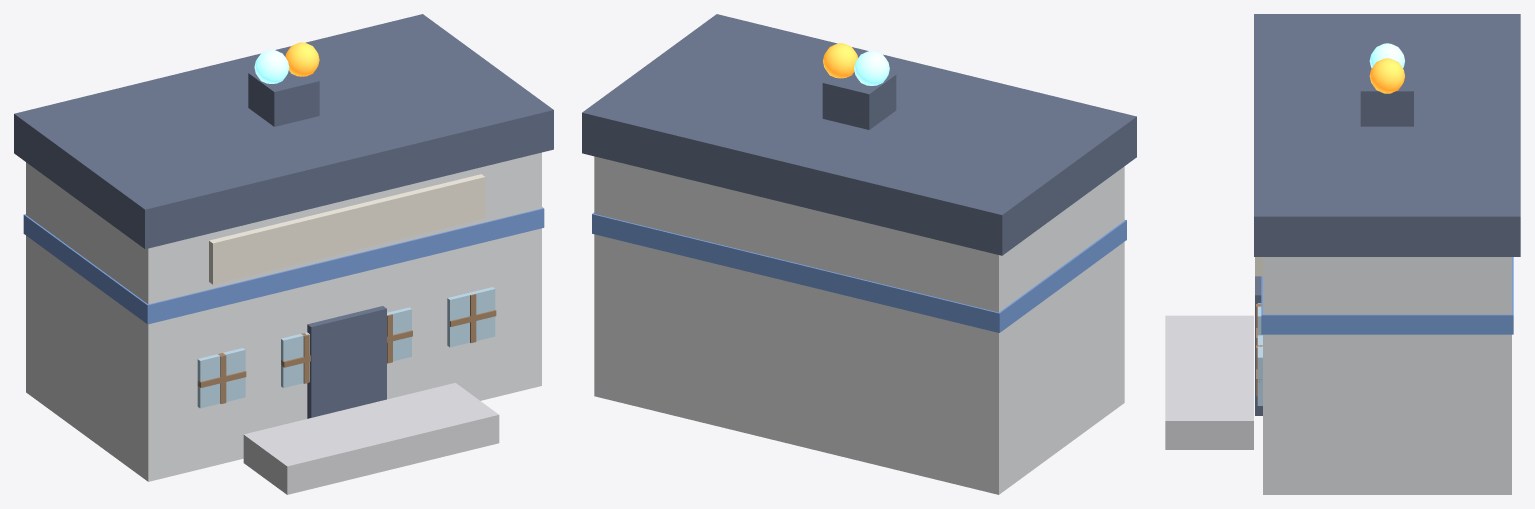
File: kantor_polisi.glb
The picture shows the model from 3 angles, left to right: view 1: azimuth 30°, elevation 25°; view 2: azimuth 150°, elevation 25°; view 3: azimuth 270°, elevation 25°; orthographic projection. The views are drawn at different scales.
Visible parts, largest first — view 1: kantor_polisi; view 2: kantor_polisi; view 3: kantor_polisi.
Boxes of the visible parts, x1,y1,x2,y2 form: kantor_polisi: [14, 14, 553, 494]; kantor_polisi: [582, 14, 1136, 494]; kantor_polisi: [1165, 14, 1520, 494].
Bounding box in the file's own units: 2.7 × 2.15 × 2.
